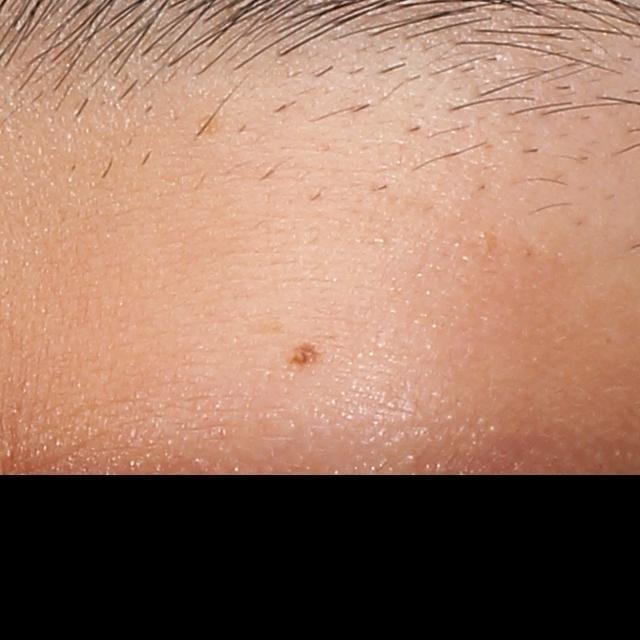nevus: (288, 338, 321, 371)
